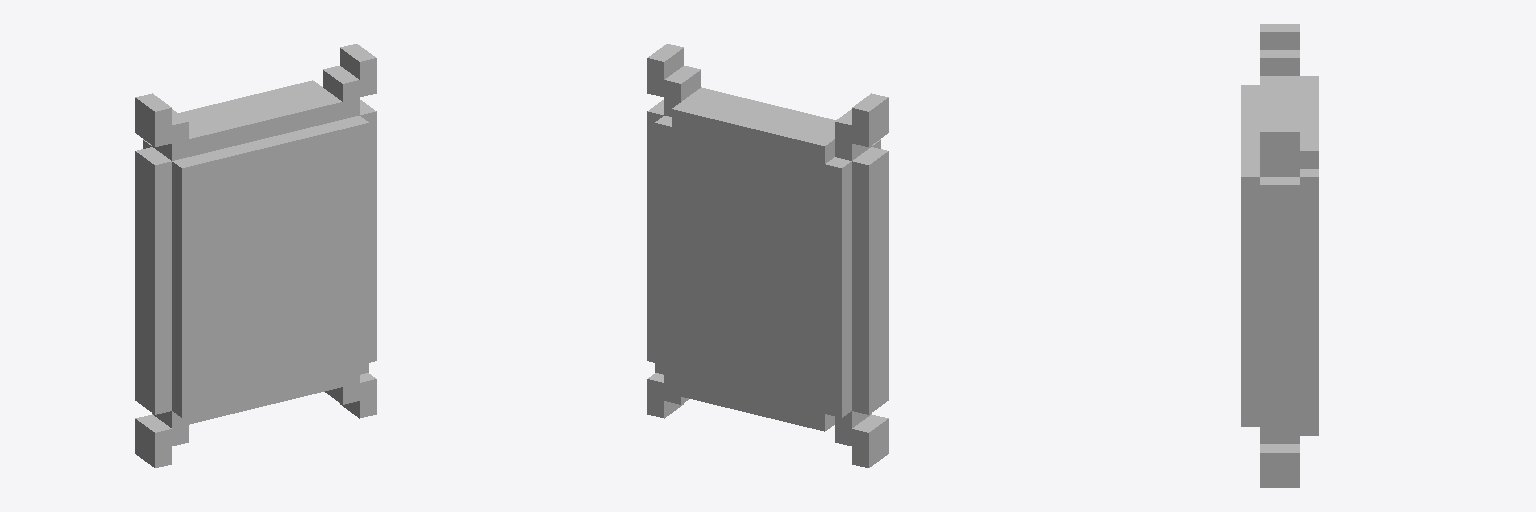
Rendered from BagOfRice-17.obj.
3 renders of one model, left to right at view 1: azimuth 30°, elevation 25°; view 2: azimuth 150°, elevation 25°; view 3: azimuth 270°, elevation 25°, orthographic.
Parts seen in each view (by area): view 1: BagOfRice-17; view 2: BagOfRice-17; view 3: BagOfRice-17.
Boxes of the visible parts, x1,y1,x2,y2 form: BagOfRice-17: [135, 44, 376, 467]; BagOfRice-17: [647, 44, 888, 467]; BagOfRice-17: [1241, 24, 1318, 487].
Size of the model in its own units: 0.26 by 0.4 by 0.08.